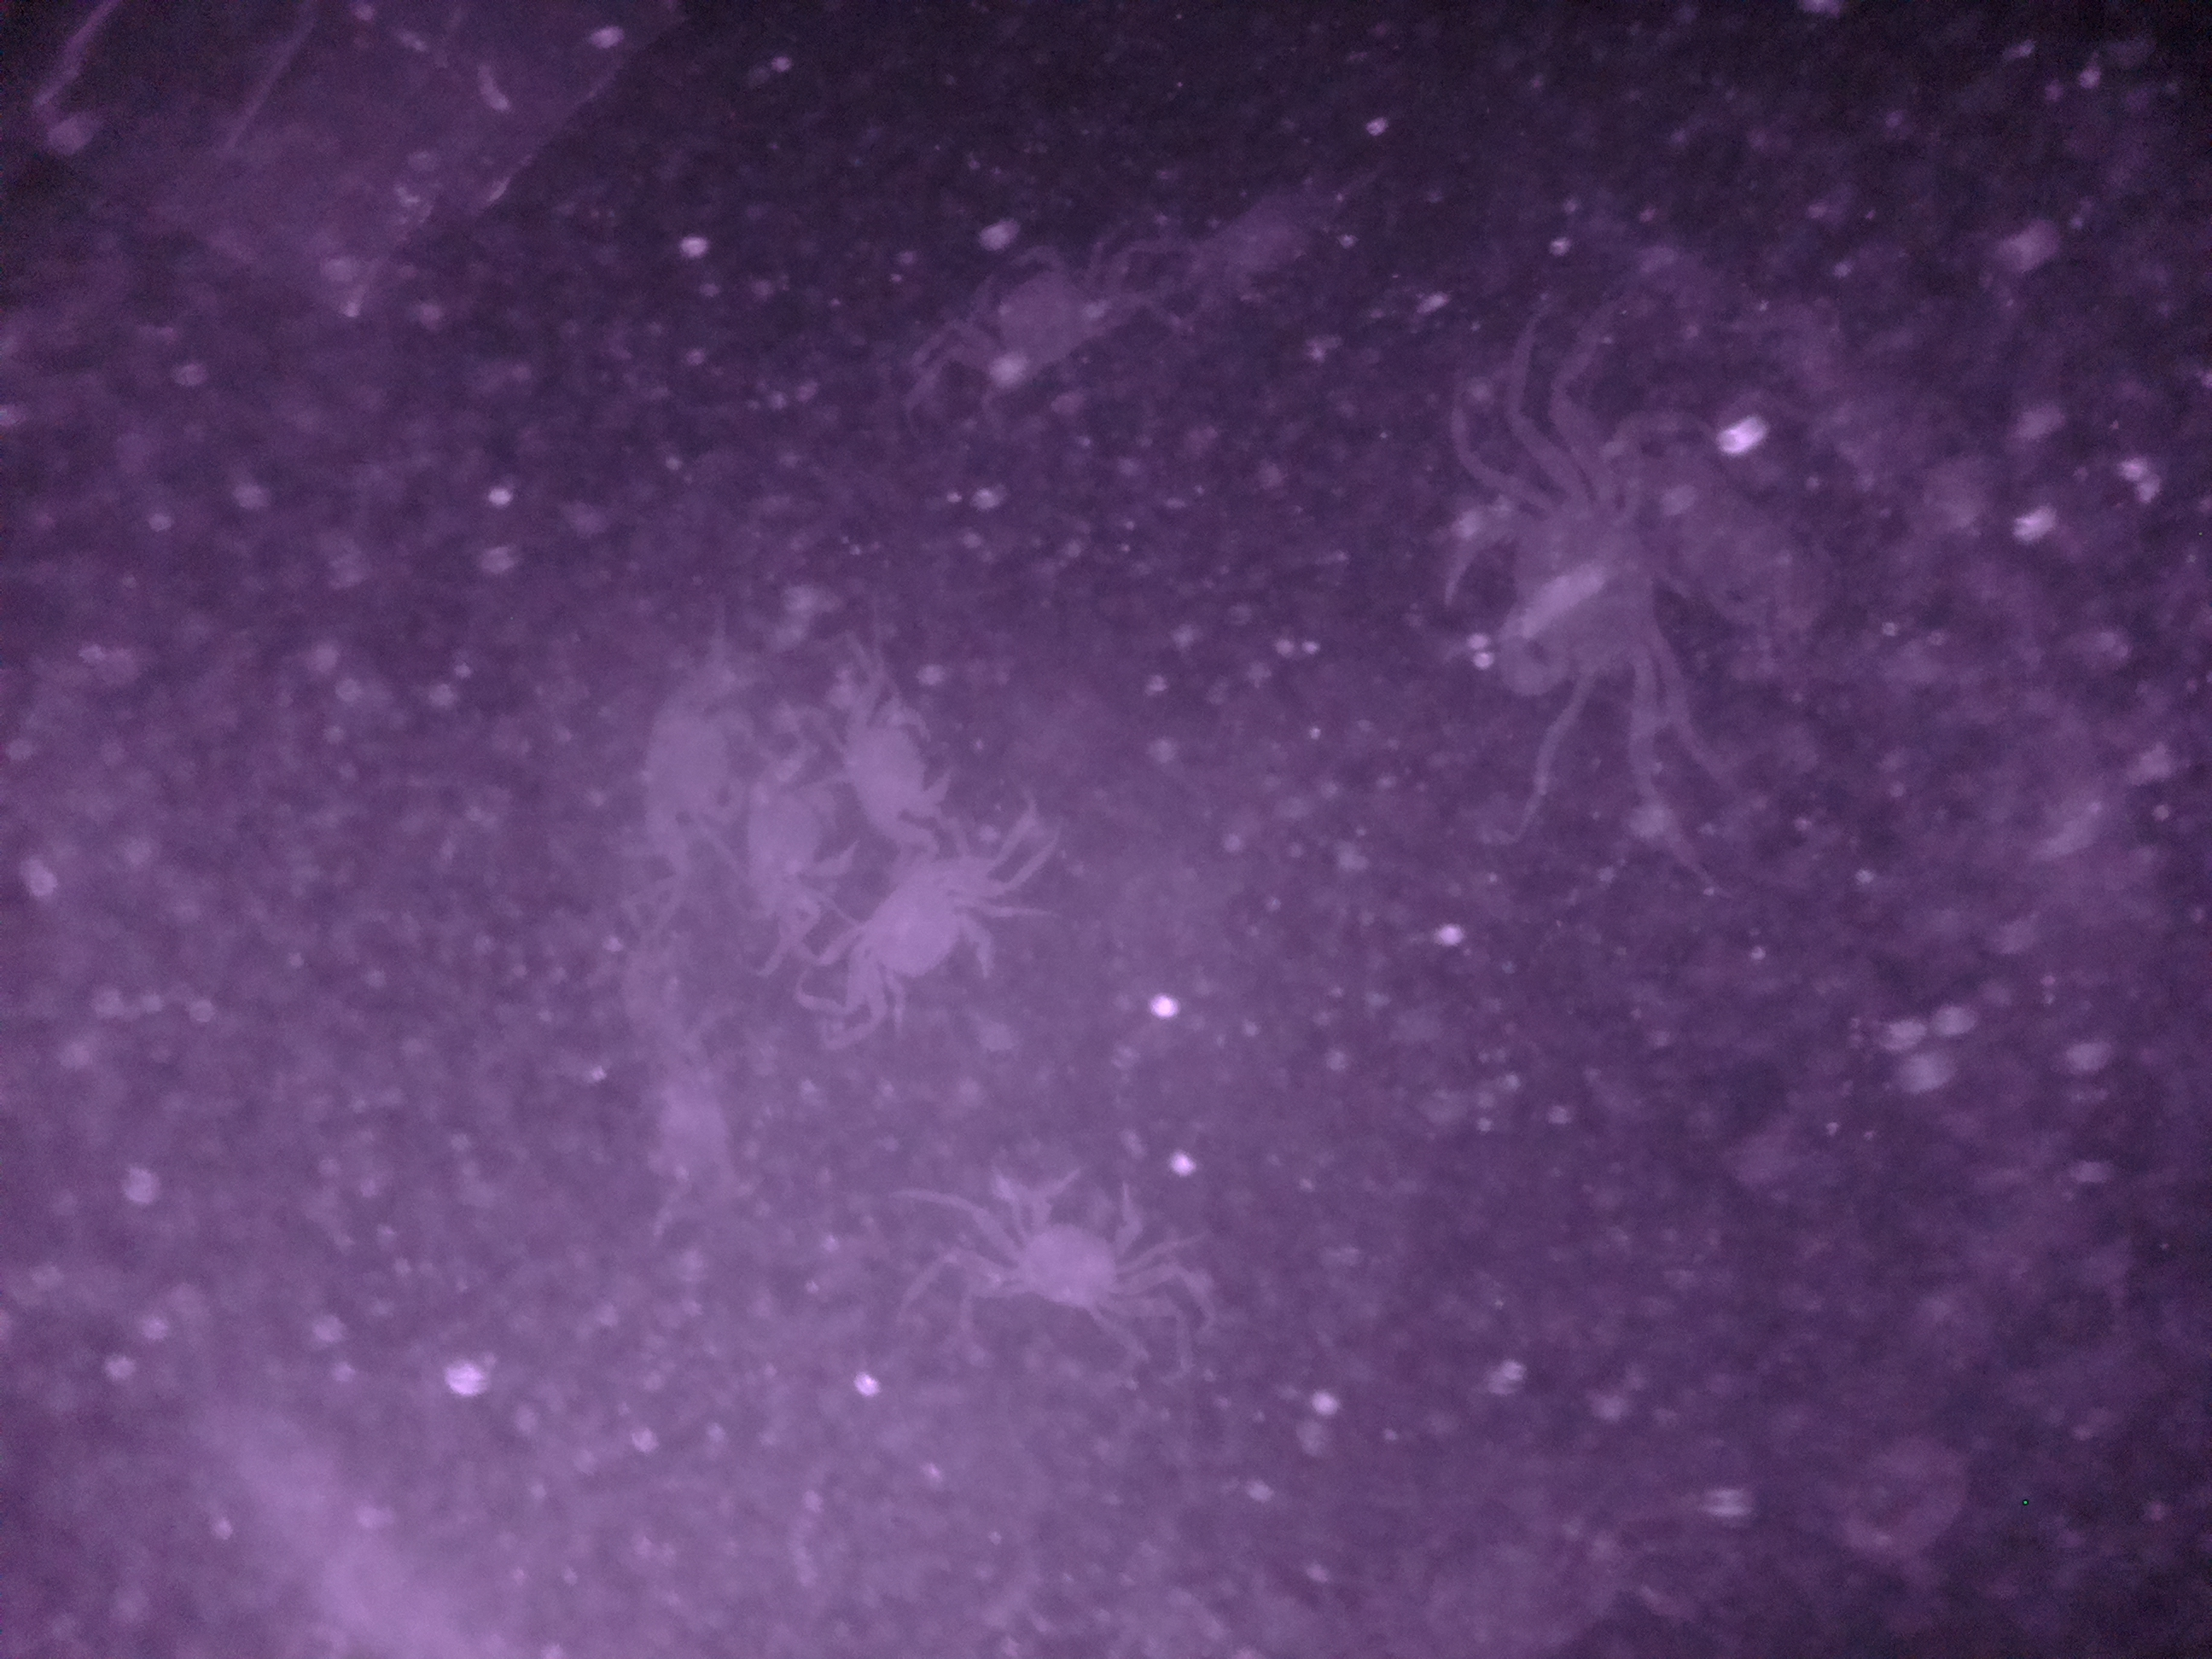Crab: (1414, 434, 1686, 730), (935, 1143, 1190, 1331), (824, 816, 1029, 1039)
